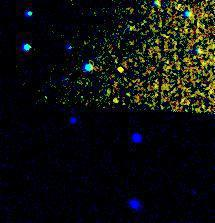star: (105, 53, 135, 83)
